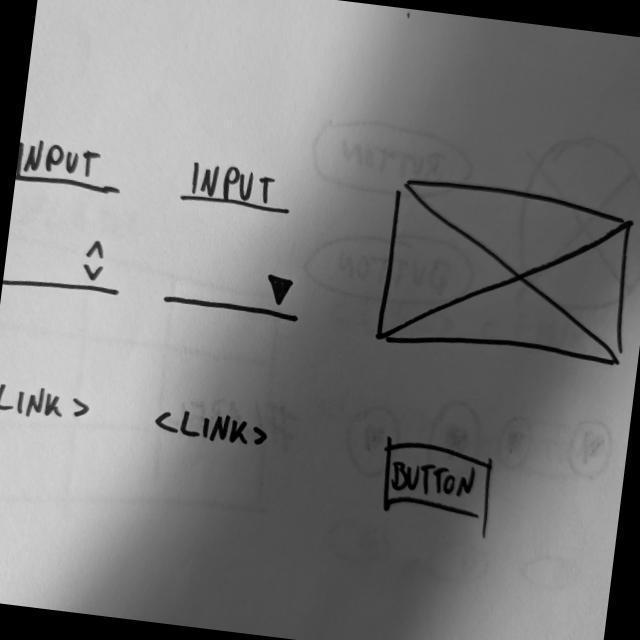button: (375, 434, 502, 528)
image: (370, 167, 640, 379)
input: (178, 158, 298, 224), (15, 135, 129, 200)
link: (150, 402, 275, 455), (1, 377, 96, 429)
number-input: (3, 226, 128, 304)
select: (158, 258, 310, 327)
